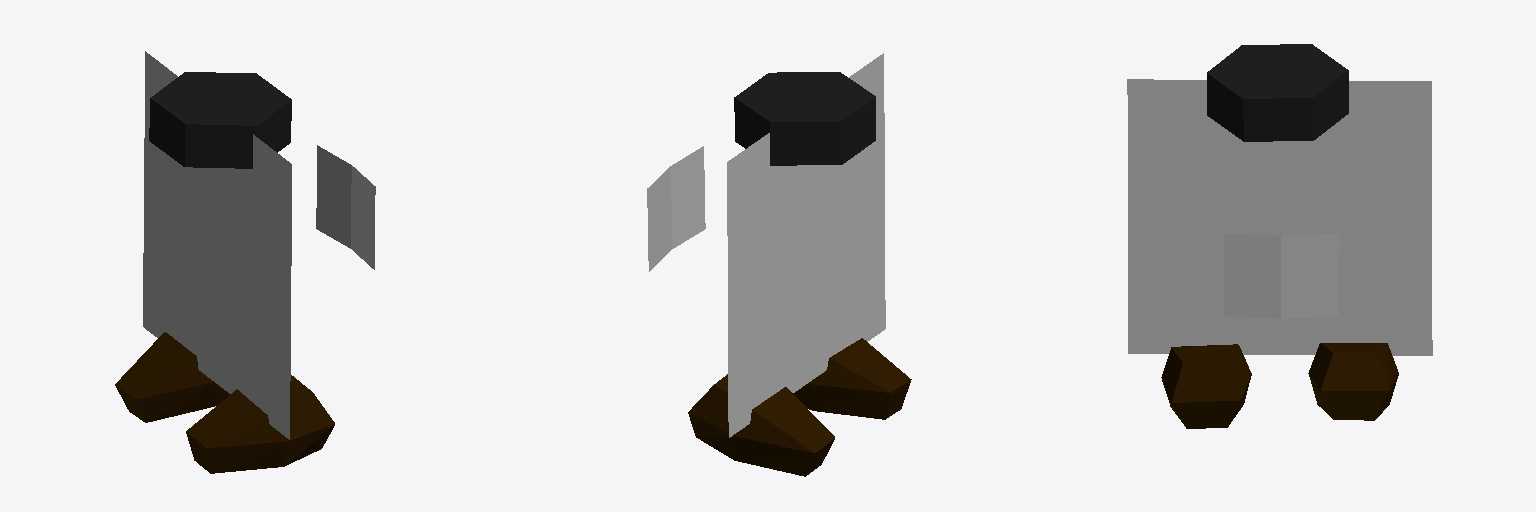
File: blakbobomb.obj
3 views of the same model, side by side, from view 1: azimuth 30°, elevation 25°; view 2: azimuth 150°, elevation 25°; view 3: azimuth 270°, elevation 25° (orthographic).
Bounding box in the file's own units: 17.94 × 29.88 × 24.57.